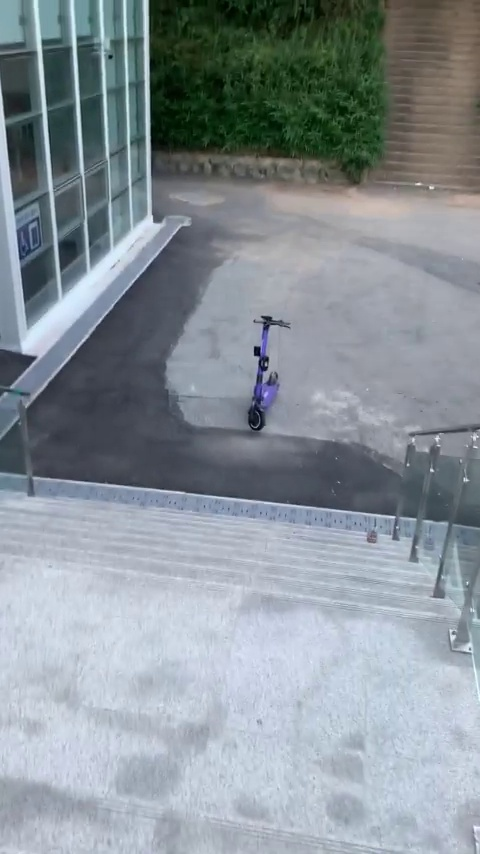beam: (240, 311, 290, 442)
